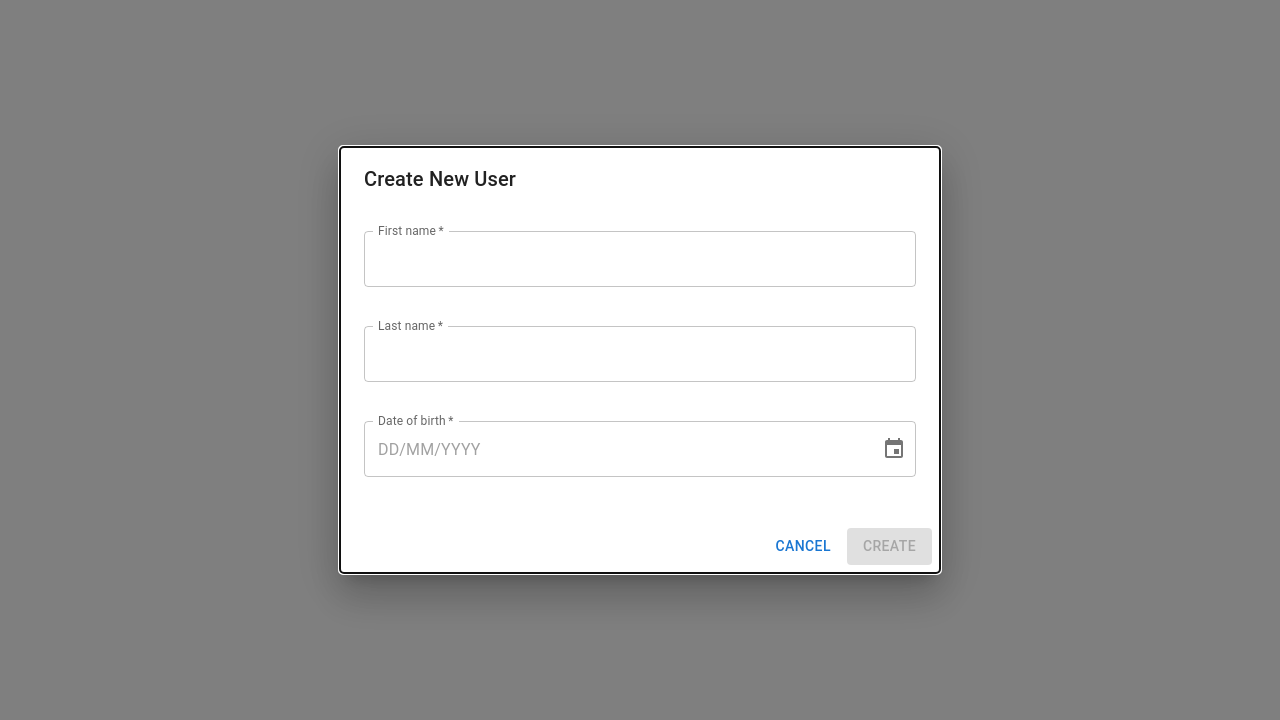
Test case: CreateUserDialog › invalid input displays error messages
Type "Jo3hn" into the field labelled "First name *" at [640, 259], box x1=364 y1=231 x2=916 y2=287
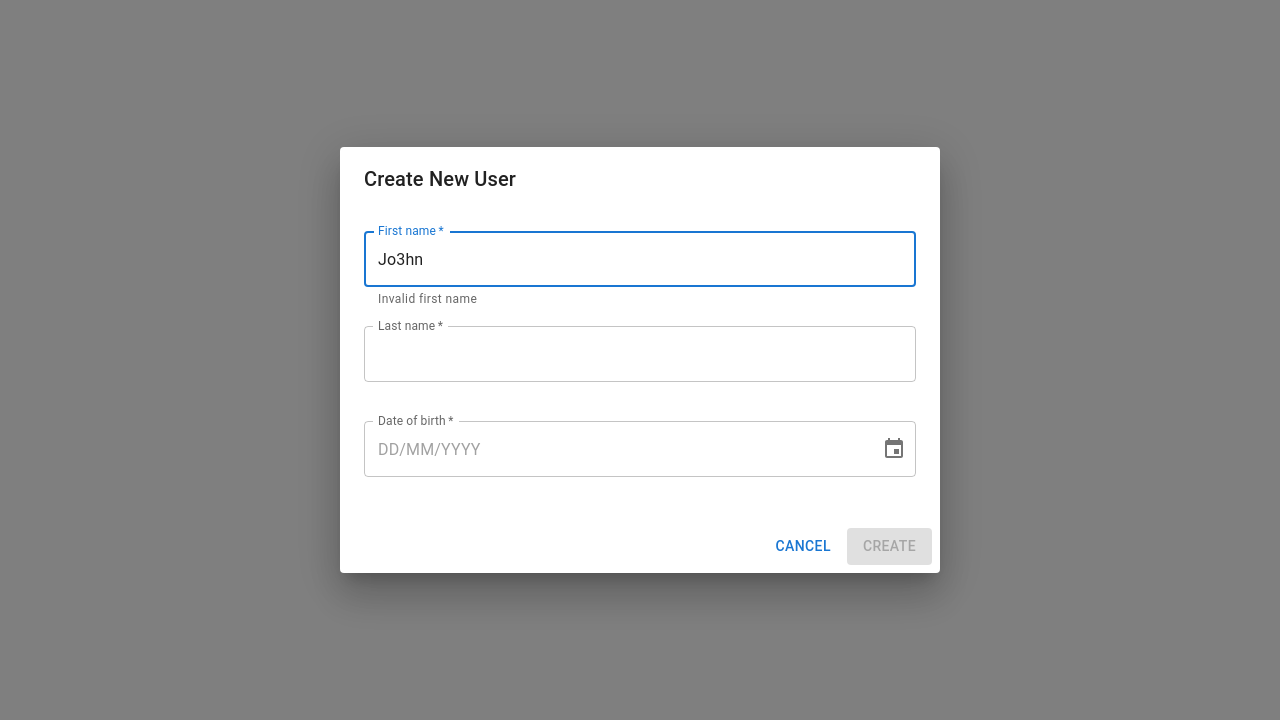
Type "Do4e" into the field labelled "Last name *" at [640, 354], box x1=364 y1=326 x2=916 y2=382
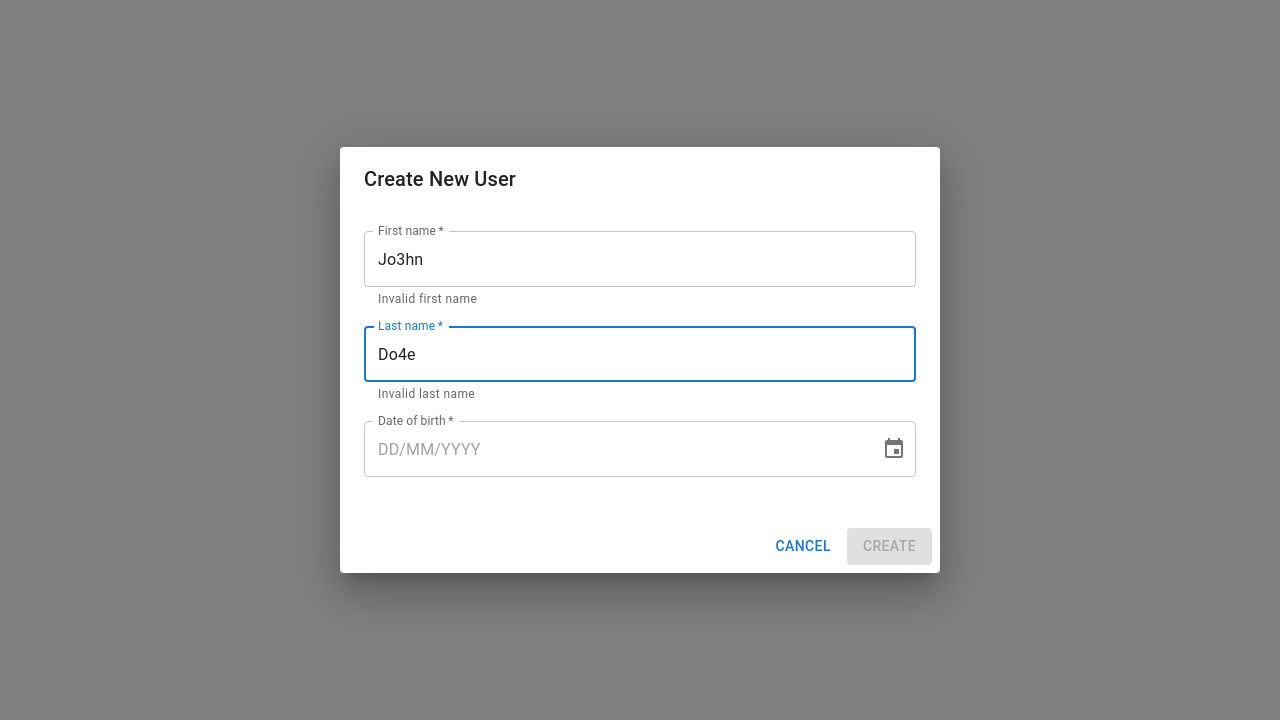
Type "01/02/1851" into the element named "date of birth" at [640, 449], box x1=364 y1=421 x2=916 y2=477
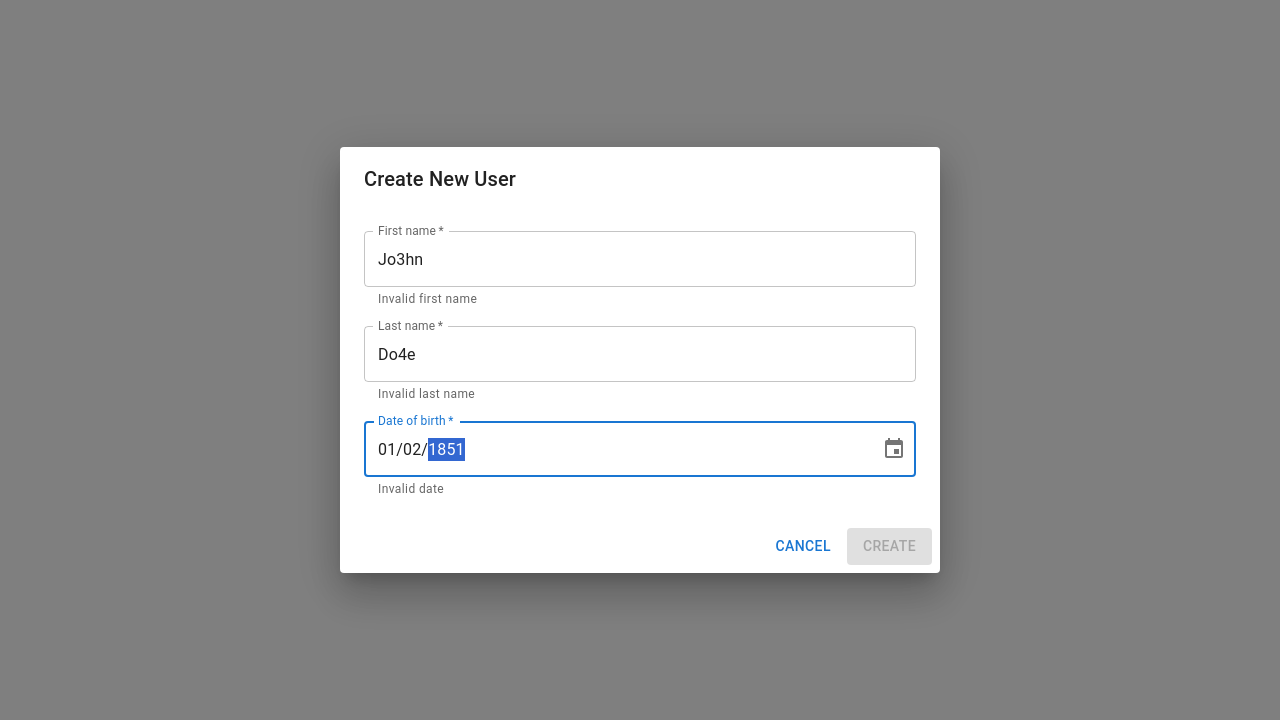
Expected: the text "Invalid first name" is shown, x1=378 y1=292 x2=477 y2=306
Expected: the text "Invalid last name" is shown, x1=378 y1=387 x2=475 y2=401
Expected: the text "Invalid date" is shown, x1=378 y1=482 x2=444 y2=496
